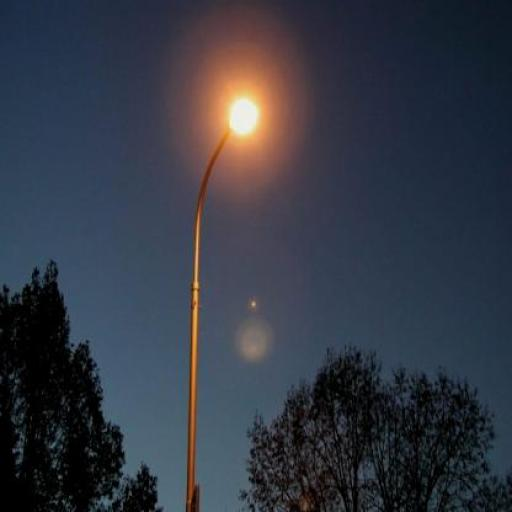street light: (186, 98, 260, 511)
